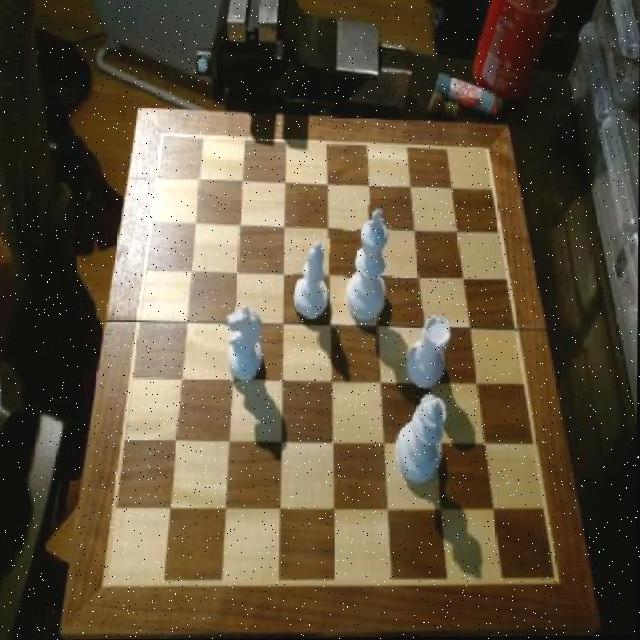black-rook: (291, 238, 329, 321)
white-bishop: (343, 205, 392, 323)
white-king: (225, 303, 266, 386)
white-pawn: (393, 390, 448, 485)
white-queen: (406, 313, 452, 392)
